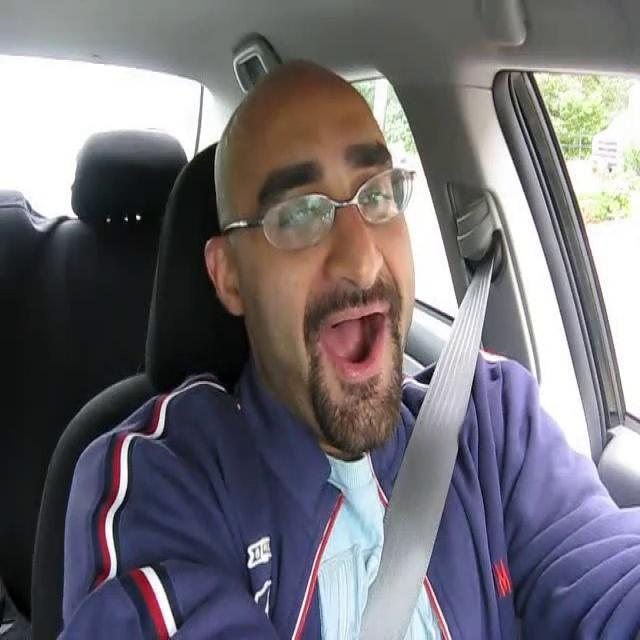open-mouth: (314, 297, 394, 386)
